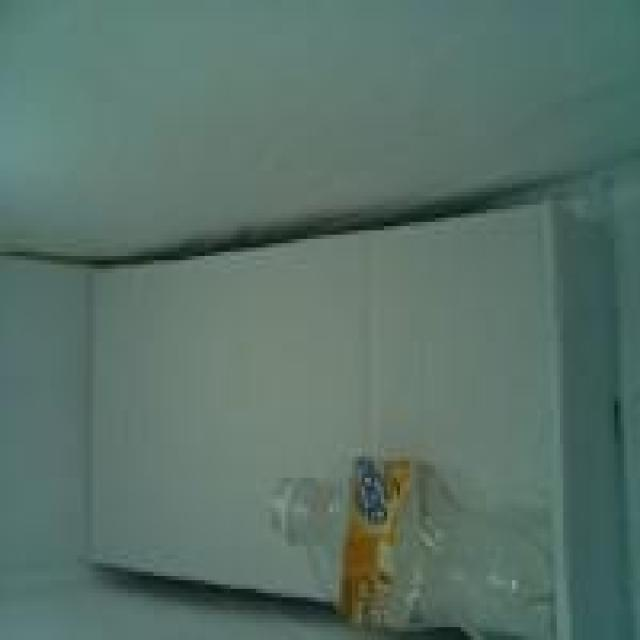bottle: (259, 452, 566, 640)
